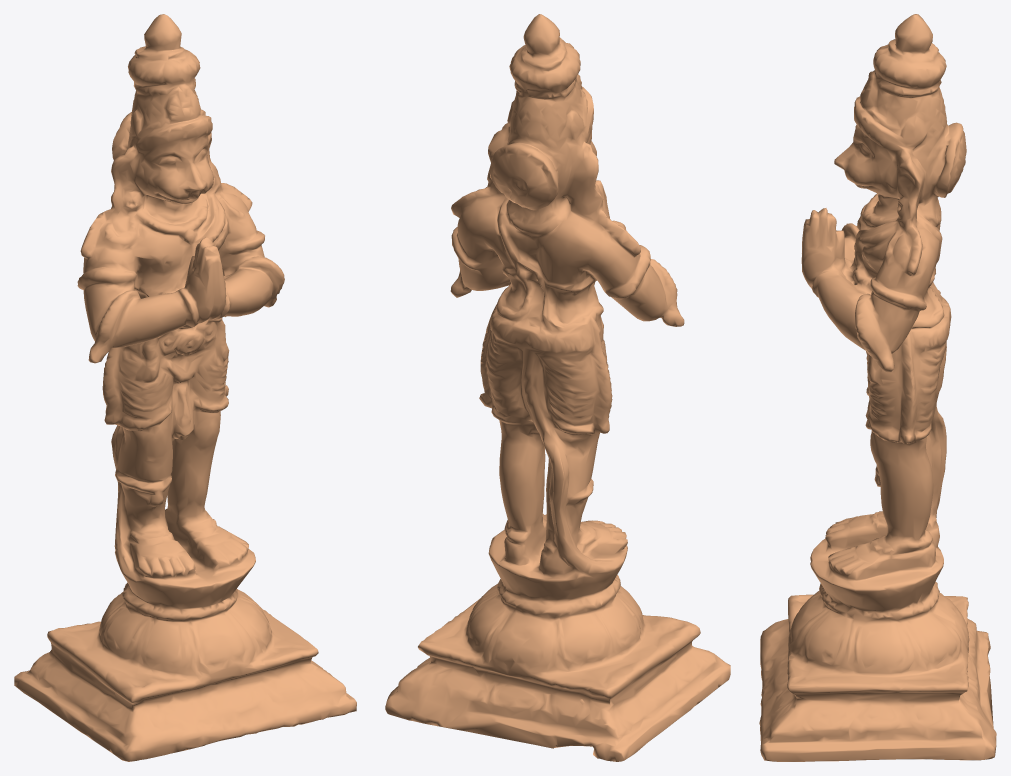
File: Vainavam_Hanuman_04.glb
3 renders of one model, left to right at view 1: azimuth 30°, elevation 25°; view 2: azimuth 150°, elevation 25°; view 3: azimuth 270°, elevation 25°, orthographic. The views are drawn at different scales.
Parts seen in each view (by area): view 1: Vainavam_Hanuman_04; view 2: Vainavam_Hanuman_04; view 3: Vainavam_Hanuman_04.
Part boxes in pixels (x1,y1,x2,y2): Vainavam_Hanuman_04: (14,14,356,761); Vainavam_Hanuman_04: (385,14,730,761); Vainavam_Hanuman_04: (759,14,996,761).
Size of the model in its own units: 0.3511 by 0.9553 by 0.2977.
